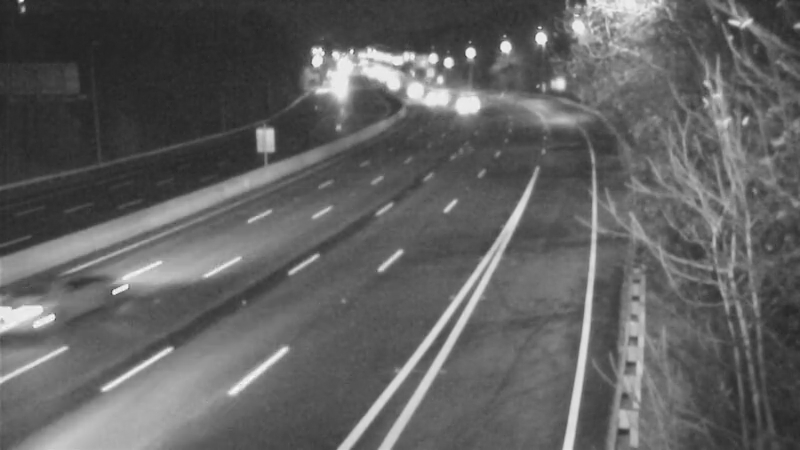vehicle: (1, 255, 95, 365), (407, 70, 457, 120), (443, 81, 493, 131)
